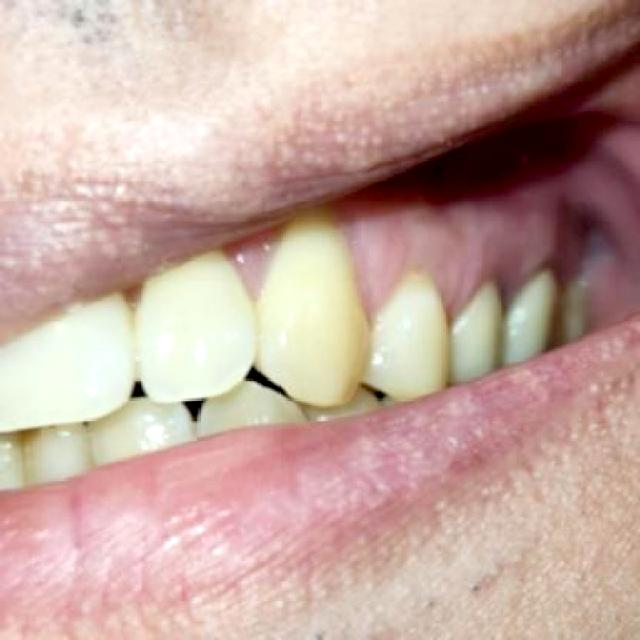Plaque: (333, 240, 548, 340)
